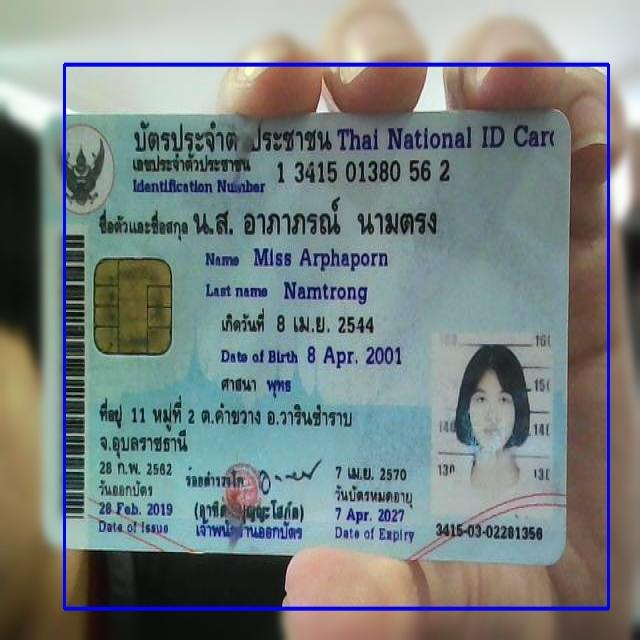Address_th: (94, 392, 363, 461)
Date_of_Birth: (304, 336, 406, 376)
Date_of_Expiry: (330, 505, 410, 525)
Date_of_Issue: (95, 499, 179, 520)
First_Name: (250, 241, 391, 275)
ID_Number: (274, 154, 454, 188)
Image: (429, 332, 554, 515)
Last_Name: (281, 278, 369, 307)
Thai_Name: (191, 194, 442, 242)
